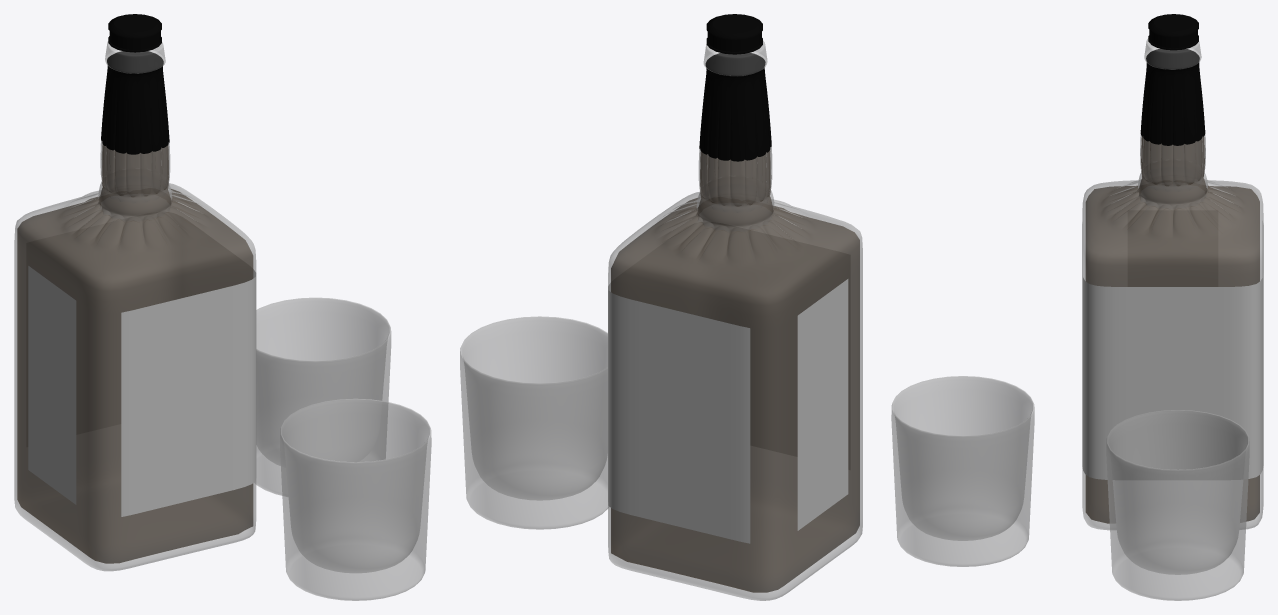
Rendered from jack.obj.
3 renders of one model, left to right at view 1: azimuth 30°, elevation 25°; view 2: azimuth 150°, elevation 25°; view 3: azimuth 270°, elevation 25°, orthographic. The views are drawn at different scales.
Parts seen in each view (by area): view 1: bottle, Box02, glass01, glass, Cylinder01; view 2: bottle, Box02, glass, Cylinder01; view 3: bottle, glass, glass01, Box02, Cylinder01.
Part boxes in pixels (x1,y1,x2,y2): bottle: [14, 41, 256, 571]; Box02: [17, 144, 253, 563]; glass01: [280, 398, 431, 600]; glass: [254, 297, 391, 496]; Cylinder01: [108, 14, 161, 52]; bottle: [608, 40, 862, 600]; Box02: [611, 151, 859, 592]; glass: [460, 316, 608, 529]; Cylinder01: [706, 14, 762, 54]; bottle: [1082, 38, 1263, 530]; glass: [1106, 410, 1249, 600]; glass01: [891, 376, 1034, 566]; Box02: [1085, 136, 1259, 523]; Cylinder01: [1148, 14, 1198, 50].
Bounding box in the file's own units: 392 × 565 × 402.
